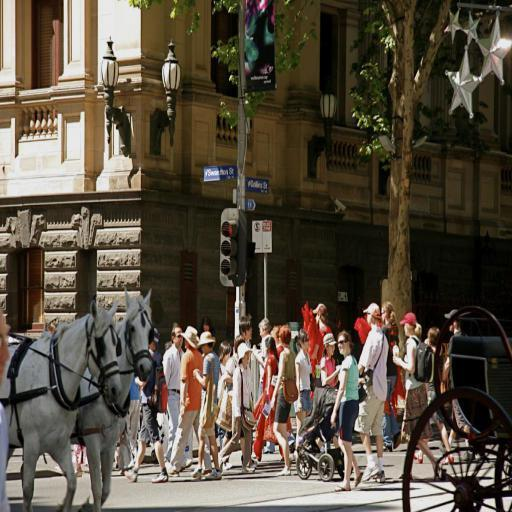horse: (0, 298, 122, 512), (70, 284, 153, 512)
